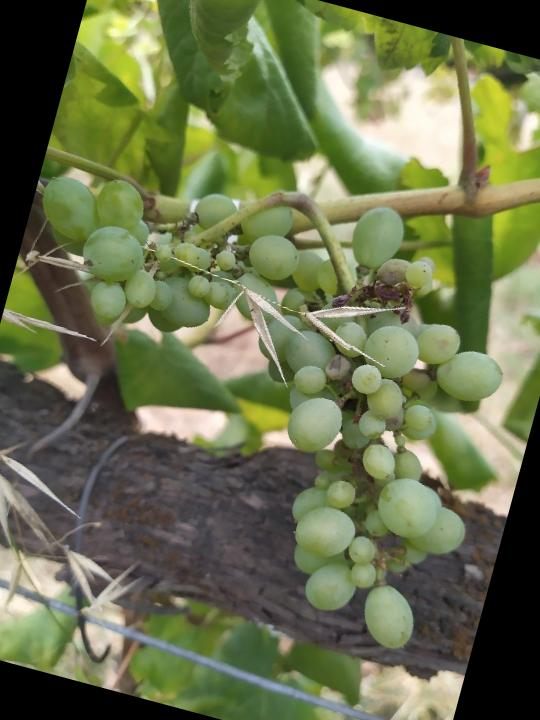grape: (0, 118, 540, 661)
